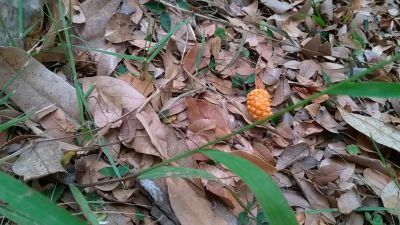eggs: (243, 84, 275, 125)
